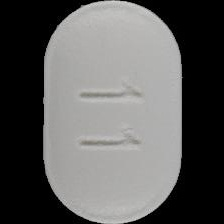13107-001: (0, 0, 224, 224)
